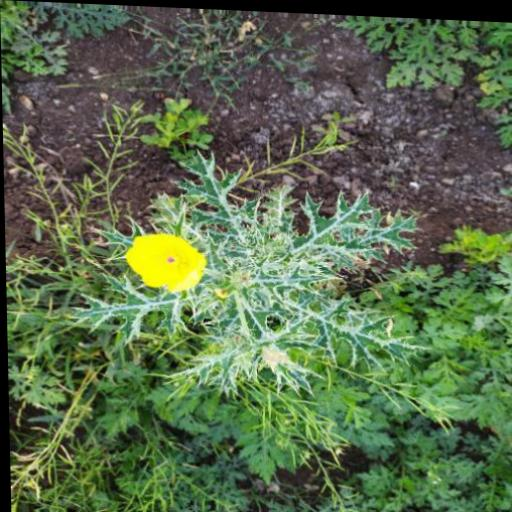weed: (23, 177, 498, 512)
